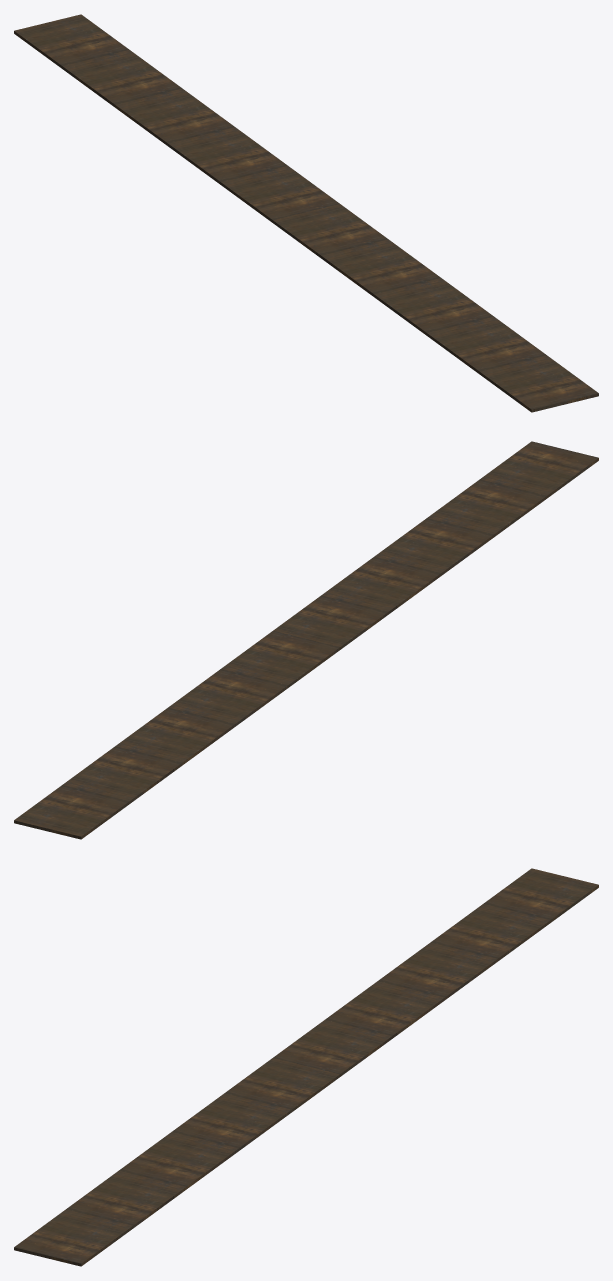
File: SM_Pier_Bridge.glb
3 renders of one model, top to bottom at view 1: azimuth 30°, elevation 25°; view 2: azimuth 150°, elevation 25°; view 3: azimuth 330°, elevation 25°, orthographic.
Parts seen in each view (by area): view 1: SM_Pier_Bridge; view 2: SM_Pier_Bridge; view 3: SM_Pier_Bridge.
Boxes of the visible parts, x1,y1,x2,y2 form: SM_Pier_Bridge: (14, 14, 598, 412); SM_Pier_Bridge: (14, 441, 598, 839); SM_Pier_Bridge: (14, 868, 598, 1266).
Bounding box in the file's own units: 600 × 25 × 8000.
Materials: 1 (1 with a texture image).
